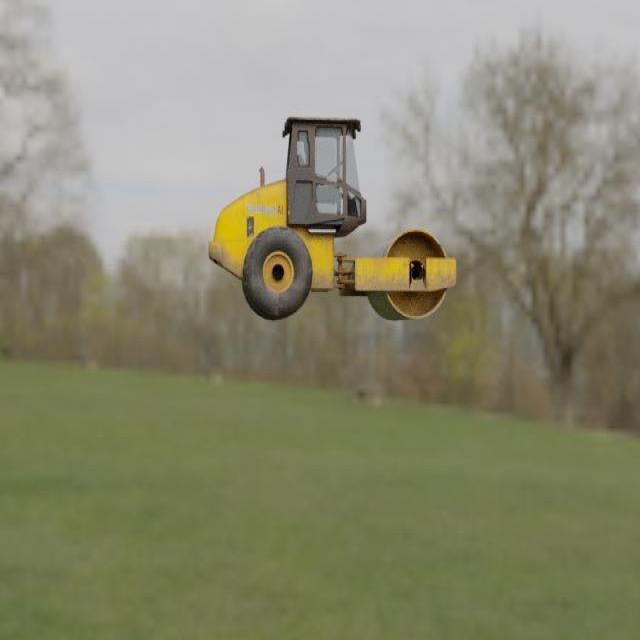Roller: (207, 116, 456, 321)
